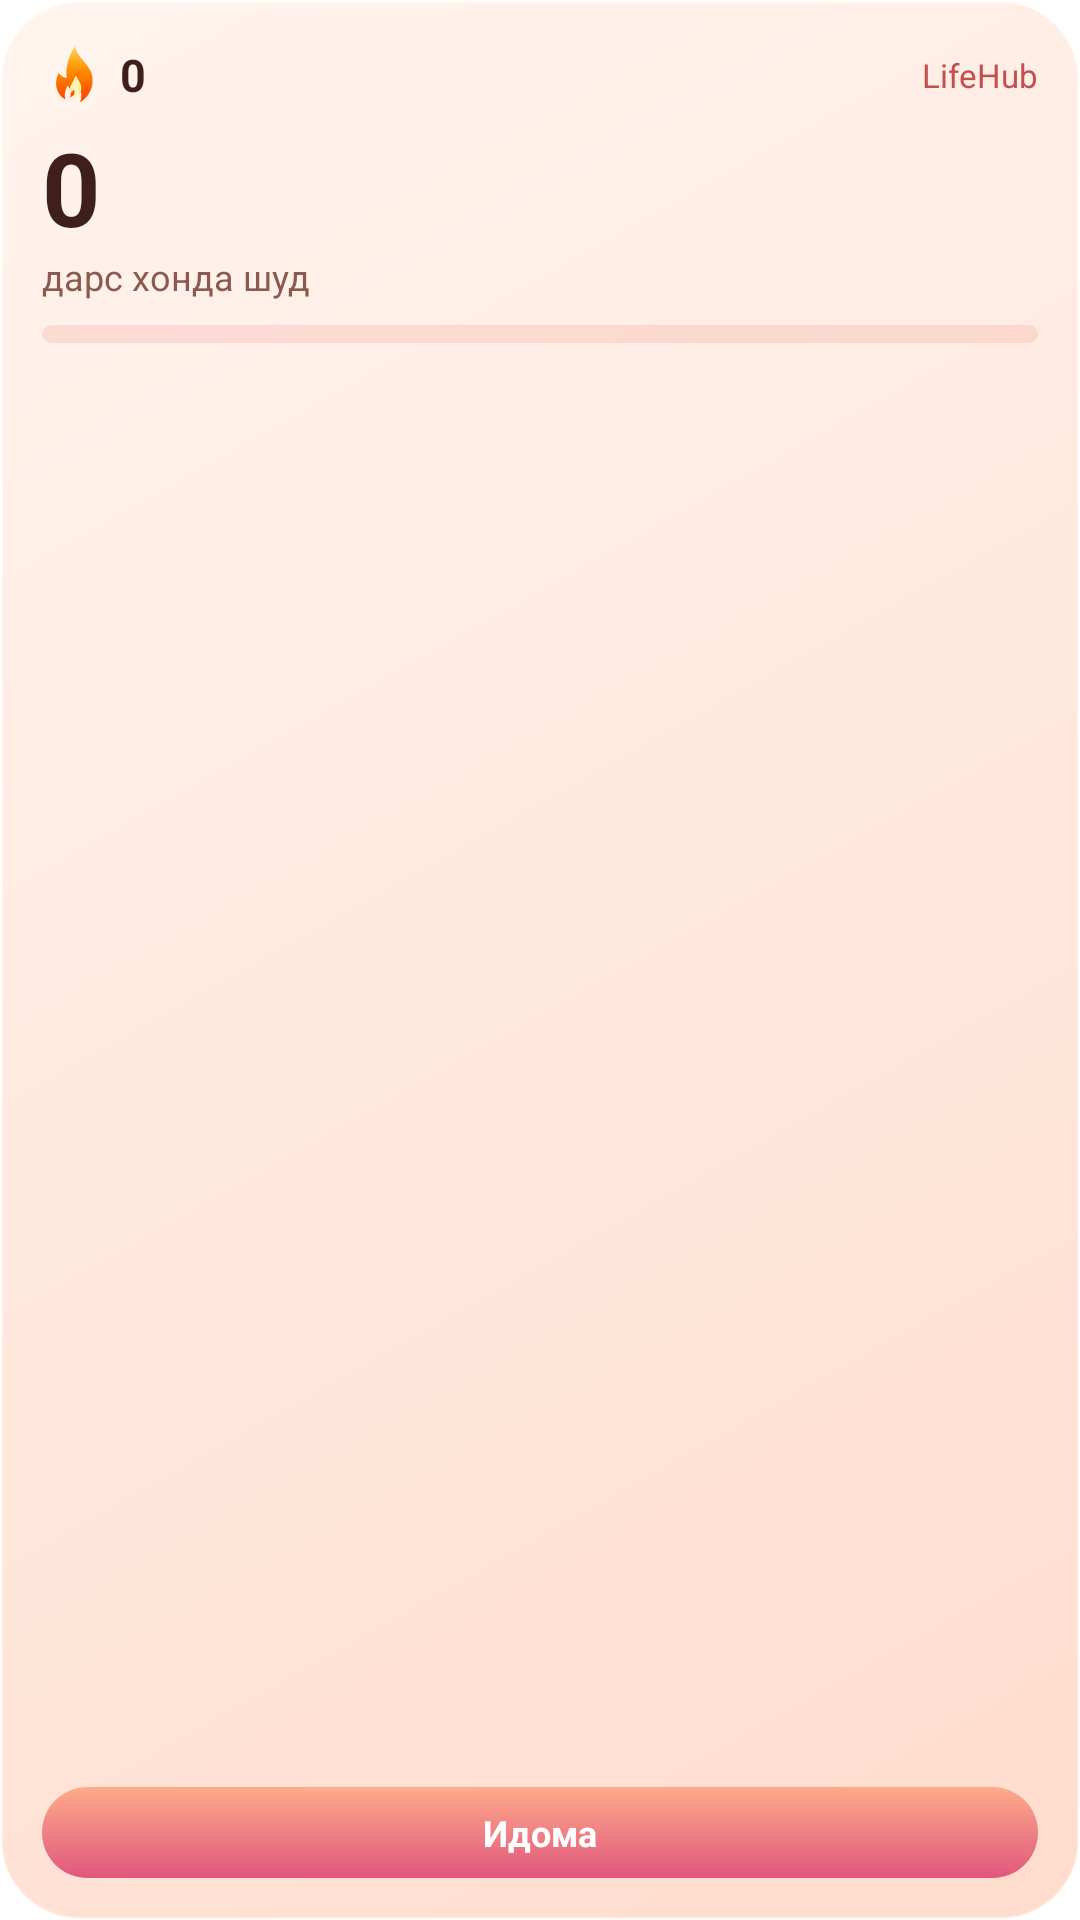

Icon bounding boxes for this 1080 × 1920 phone screenshot, format {"left": x1, "top": y1, "right": x2, "bottom": y2}:
widget flame: {"left": 56, "top": 46, "right": 93, "bottom": 102}
